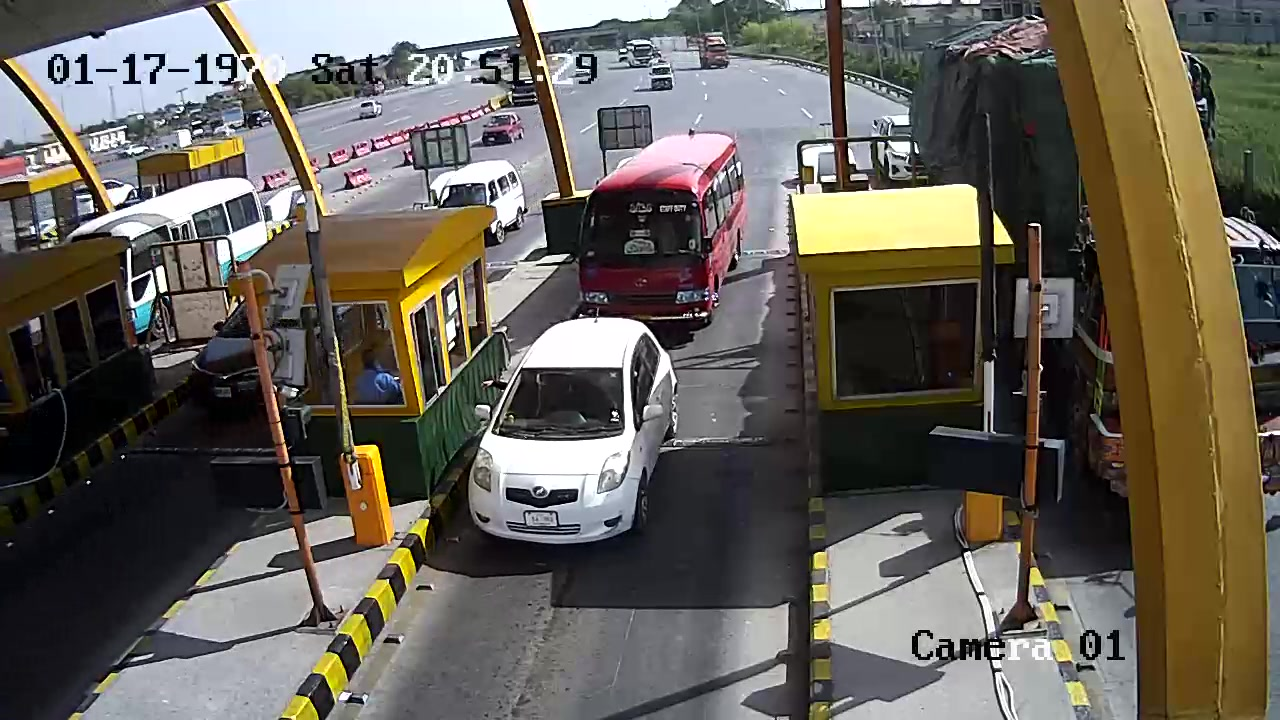F1: (461, 323, 686, 555)
F3: (576, 132, 751, 329)
